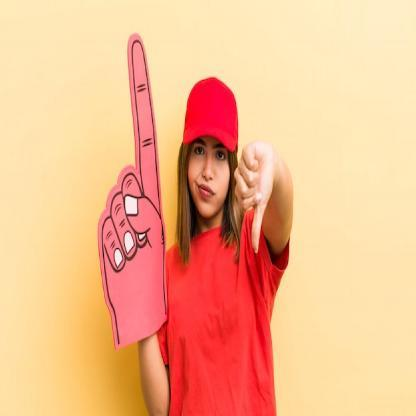thumb_down: (232, 133, 278, 259)
